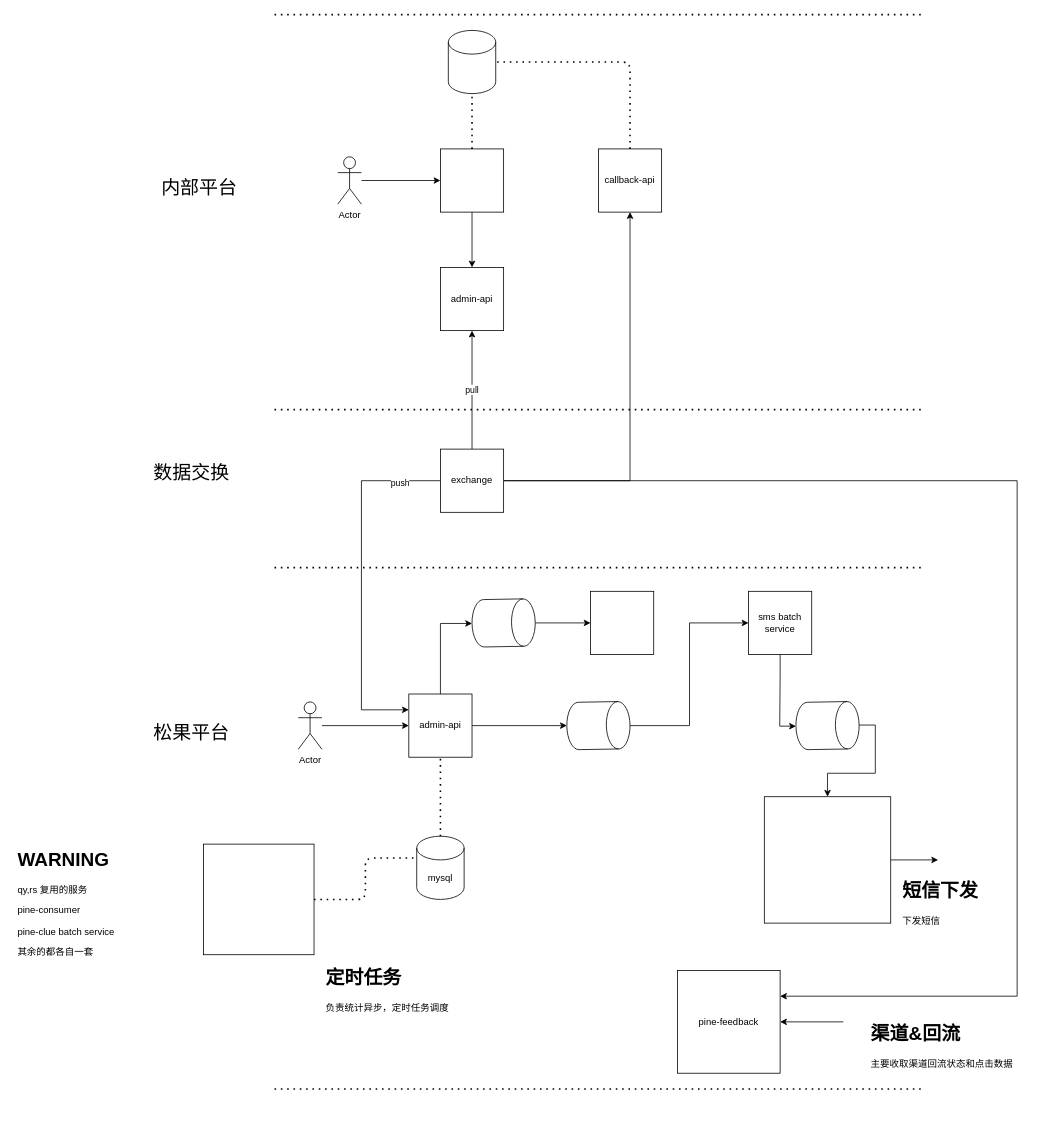
This 1062x1126 diagram has some shape labels left out. Each missing label, with the centre of its shape:
api-gateway 3A: the point at 472,180
clue batch service: the point at 622,623
pine-chassis: the point at 827,859
pine-consumer: the point at 258,899
